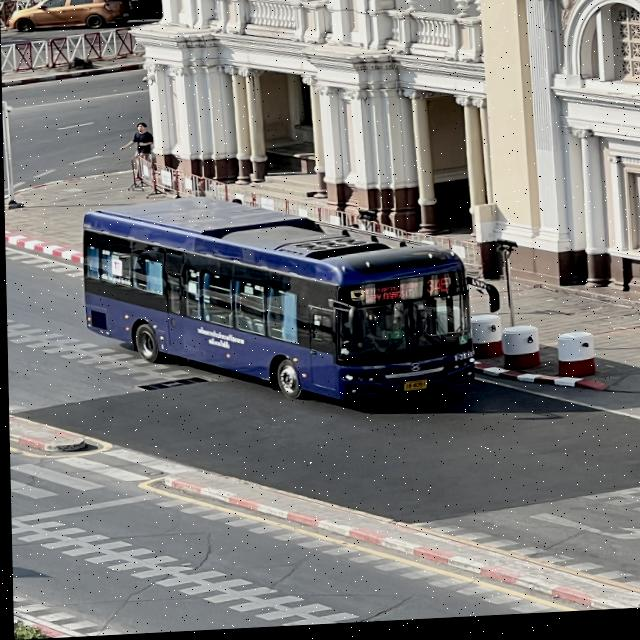Bus-Line-Number: (423, 278, 454, 302)
Destination-Sign-Normal: (359, 285, 419, 308)
TSB-Bus: (79, 187, 475, 420)
